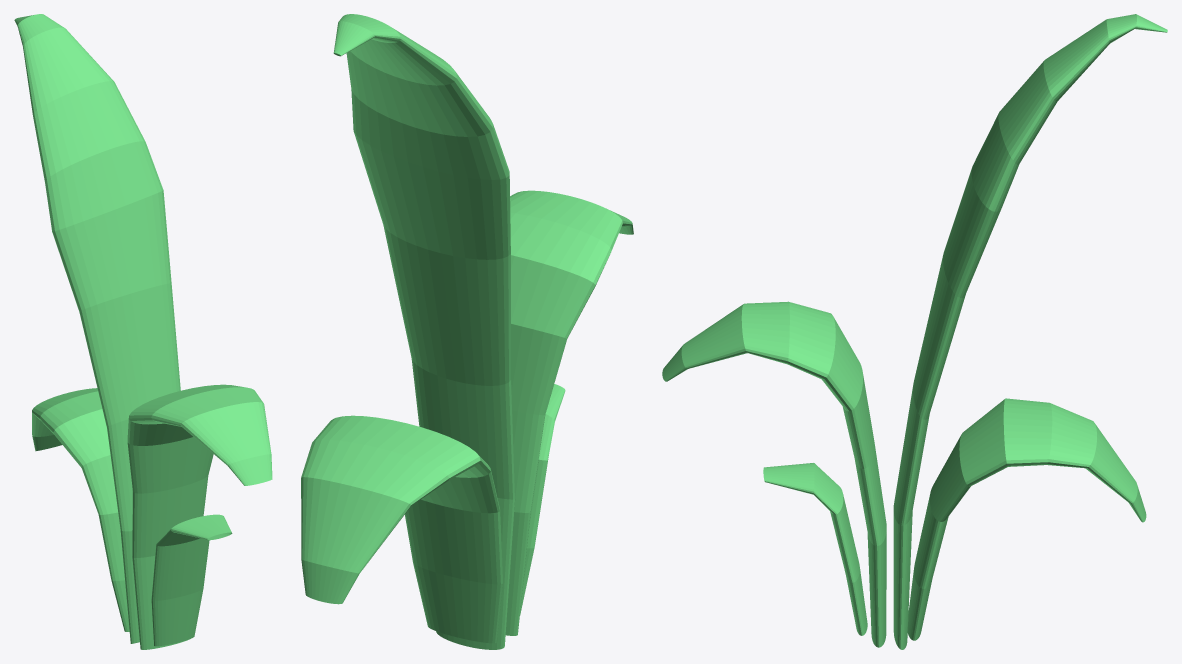
The model's file is grass.fbx.
The picture shows the model from 3 angles, left to right: view 1: azimuth 30°, elevation 25°; view 2: azimuth 150°, elevation 25°; view 3: azimuth 270°, elevation 25°; orthographic projection. The views are drawn at different scales.
Visible parts, largest first — view 1: Cylinder.001, Cylinder, Cylinder.002, Cylinder.003; view 2: Cylinder.001, Cylinder.002, Cylinder, Cylinder.003; view 3: Cylinder.001, Cylinder, Cylinder.002, Cylinder.003.
Boxes of the visible parts, left/top/right/bottom form: Cylinder.001: left=14, top=14, right=180, bottom=643; Cylinder: left=127, top=384, right=272, bottom=649; Cylinder.002: left=32, top=388, right=129, bottom=631; Cylinder.003: left=151, top=514, right=232, bottom=646; Cylinder.001: left=333, top=14, right=515, bottom=649; Cylinder.002: left=301, top=415, right=502, bottom=643; Cylinder: left=505, top=190, right=633, bottom=635; Cylinder.003: left=520, top=384, right=565, bottom=615; Cylinder.001: left=893, top=14, right=1167, bottom=649; Cylinder: left=662, top=301, right=886, bottom=647; Cylinder.002: left=907, top=398, right=1146, bottom=640; Cylinder.003: left=763, top=463, right=867, bottom=635.
Bounding box in the file's own units: 241 × 1009 × 755.
